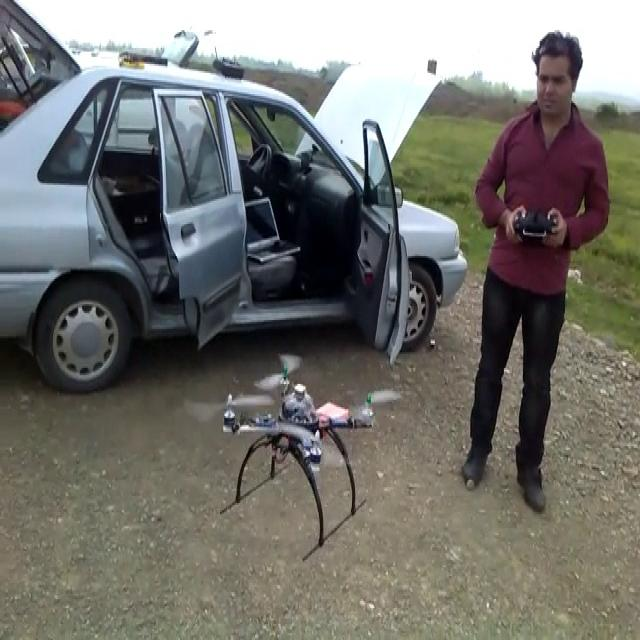drone: (180, 352, 403, 560)
